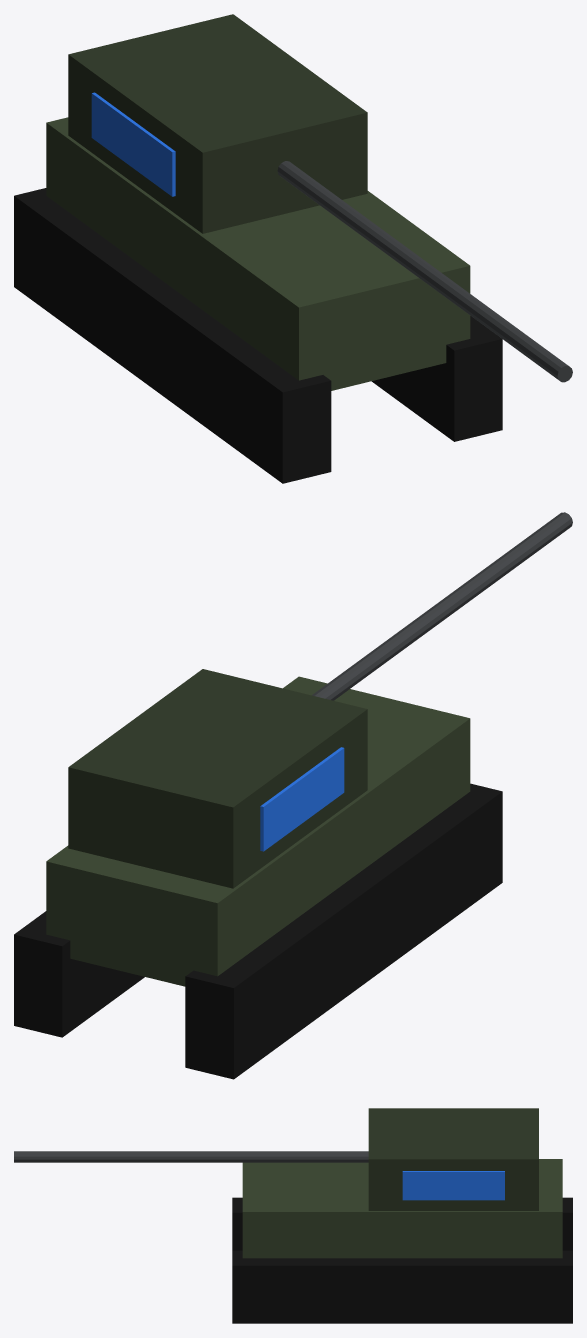
Rendered from ru_howitzer.glb.
3 renders of one model, top to bottom at view 1: azimuth 30°, elevation 25°; view 2: azimuth 150°, elevation 25°; view 3: azimuth 270°, elevation 25°, orthographic. The views are drawn at different scales.
Visible parts, largest first — view 1: hull, turret, track_l, track_r, barrel, team_panel_l; view 2: hull, turret, track_l, track_r, barrel, team_panel_l; view 3: hull, track_r, turret, barrel, team_panel_r, track_l.
Boxes of the visible parts, left/top/right/bottom form: hull: left=46, top=117, right=470, bottom=390; turret: left=68, top=14, right=367, bottom=233; track_l: left=14, top=188, right=331, bottom=483; track_r: left=372, top=316, right=502, bottom=441; barrel: left=277, top=161, right=572, bottom=382; team_panel_l: left=91, top=92, right=175, bottom=196; hull: left=46, top=676, right=470, bottom=986; turret: left=68, top=669, right=367, bottom=888; track_l: left=185, top=783, right=502, bottom=1079; track_r: left=14, top=911, right=144, bottom=1037; barrel: left=312, top=512, right=572, bottom=700; team_panel_l: left=260, top=747, right=344, bottom=851; hull: left=242, top=1159, right=562, bottom=1258; track_r: left=232, top=1250, right=572, bottom=1323; turret: left=368, top=1108, right=538, bottom=1210; barrel: left=14, top=1151, right=368, bottom=1162; team_panel_r: left=402, top=1171, right=504, bottom=1200; track_l: left=232, top=1197, right=572, bottom=1250.
Size of the model in its own units: 3.4 by 3.63 by 11.82.
